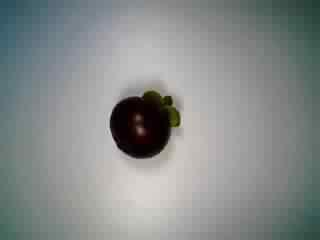mangosteen: (104, 87, 187, 158)
